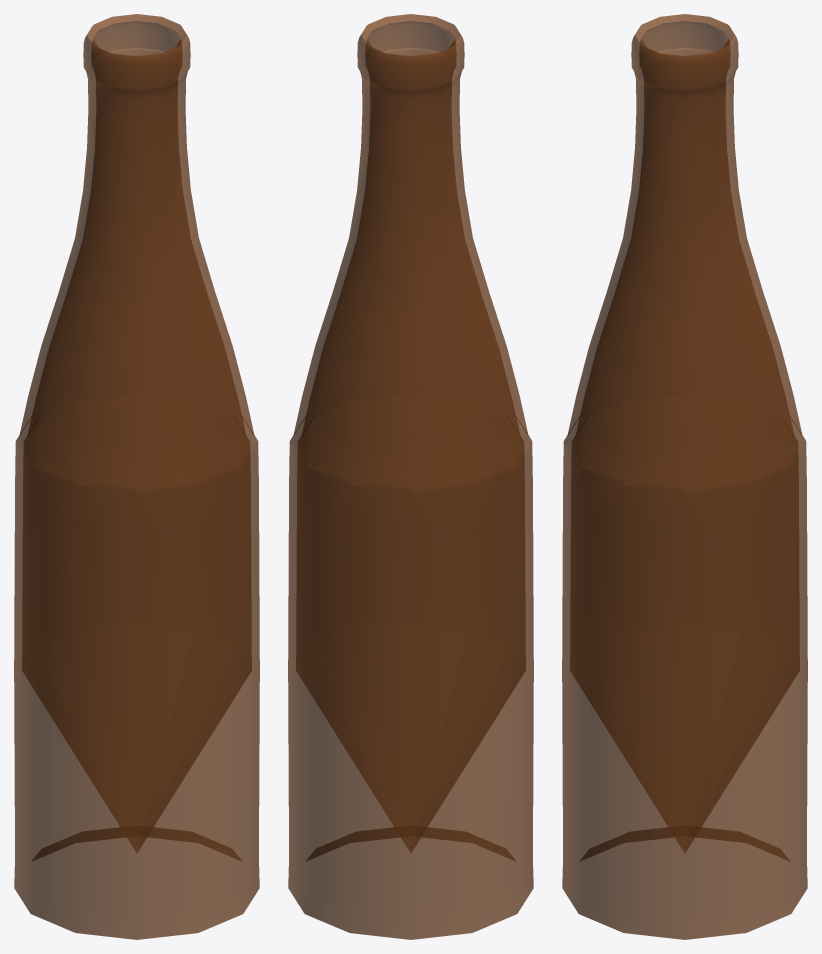
The model's file is bottle_longneck_355ml.far.glb.
The picture shows the model from 3 angles, left to right: view 1: azimuth 30°, elevation 25°; view 2: azimuth 150°, elevation 25°; view 3: azimuth 270°, elevation 25°; orthographic projection.
Parts seen in each view (by area): view 1: bottle_longneck_355ml; view 2: bottle_longneck_355ml; view 3: bottle_longneck_355ml.
Part boxes in pixels (x1=…): bottle_longneck_355ml: x1=14, y1=14, x2=259, y2=939; bottle_longneck_355ml: x1=288, y1=14, x2=533, y2=939; bottle_longneck_355ml: x1=562, y1=14, x2=807, y2=939.
Size of the model in its own units: 0.0615 by 0.2355 by 0.0615.
